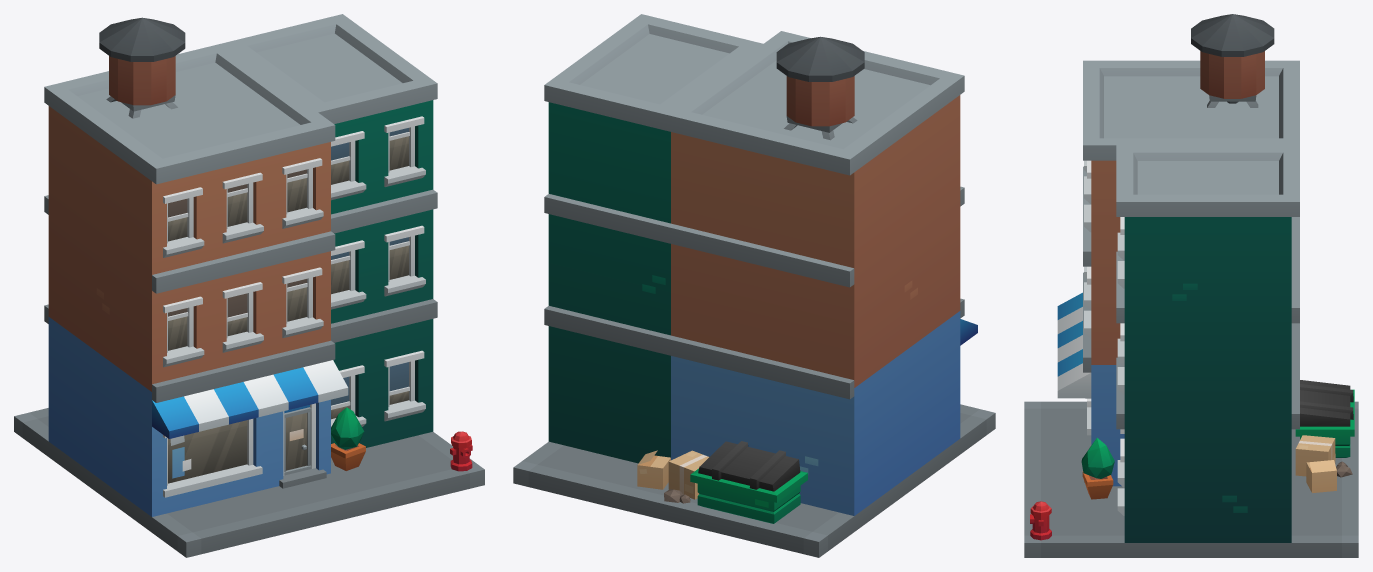
Rendered from building_G.obj.
3 renders of one model, left to right at view 1: azimuth 30°, elevation 25°; view 2: azimuth 150°, elevation 25°; view 3: azimuth 270°, elevation 25°, orthographic. The views are drawn at different scales.
Visible parts, largest first — view 1: building_G_Cube.932; view 2: building_G_Cube.932; view 3: building_G_Cube.932.
Part boxes in pixels (<box>): building_G_Cube.932: <box>14,14,484,557</box>; building_G_Cube.932: <box>513,14,995,557</box>; building_G_Cube.932: <box>1024,14,1358,557</box>.
Bounding box in the file's own units: 2.01 × 2.86 × 2.
Materials: 1 (1 with a texture image).
